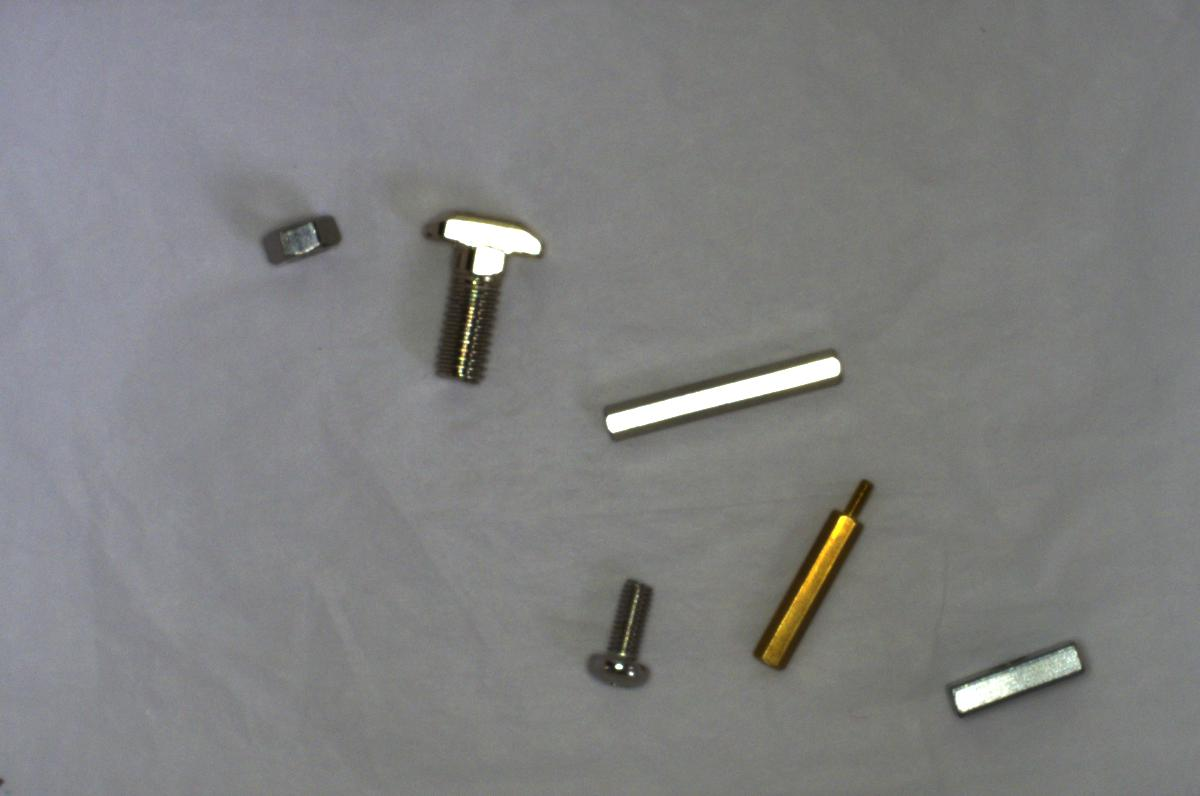Double hexagonal column: (594, 338, 848, 446)
Hexagon nut: (251, 203, 346, 269)
Hexagon pillar: (746, 475, 873, 675)
Rectangular nut: (946, 642, 1090, 716)
Round head screw: (581, 569, 658, 693)
T-shaped screw: (417, 206, 552, 393)
